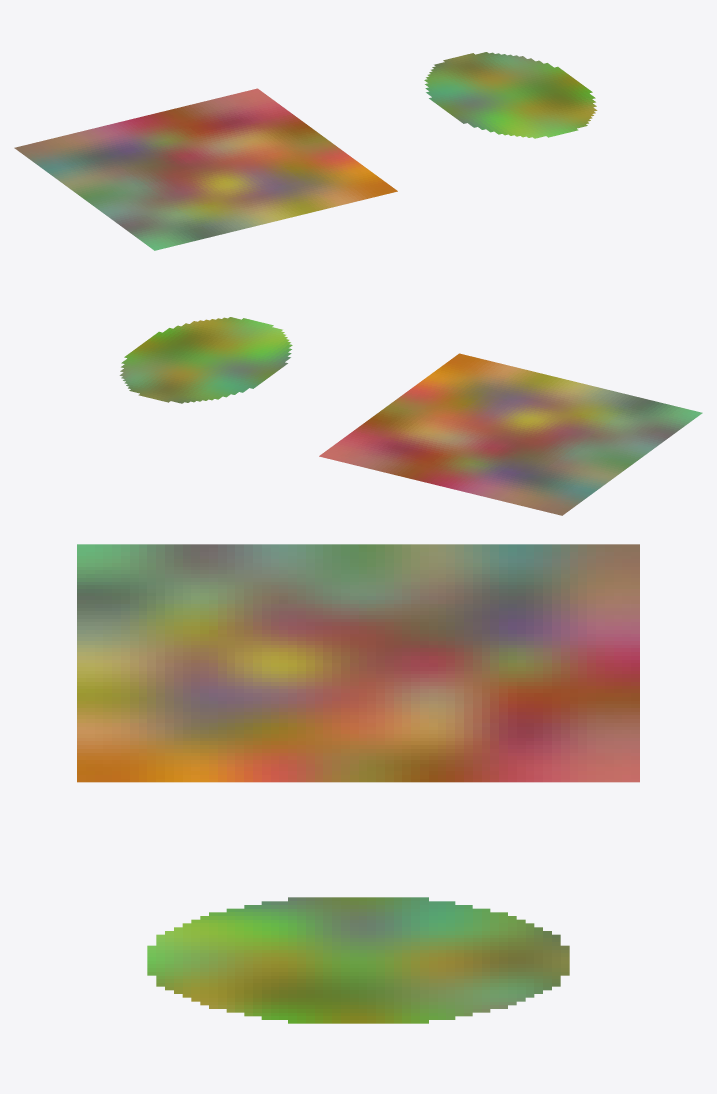
File: fox.glb
3 views of the same model, one above another, from view 1: azimuth 30°, elevation 25°; view 2: azimuth 150°, elevation 25°; view 3: azimuth 270°, elevation 25° (orthographic). The views are drawn at different scales.
Parts seen in each view (by area): view 1: Fixture_wolf_base, Fixture_fox_fur_cards; view 2: Fixture_wolf_base, Fixture_fox_fur_cards; view 3: Fixture_wolf_base, Fixture_fox_fur_cards.
Boxes of the visible parts, x1,y1,x2,y2 form: Fixture_wolf_base: (14,88,397,250); Fixture_fox_fur_cards: (424,52,597,138); Fixture_wolf_base: (319,353,702,515); Fixture_fox_fur_cards: (119,317,292,403); Fixture_wolf_base: (77,544,639,782); Fixture_fox_fur_cards: (147,897,569,1023).
Bounding box in the file's own units: 4.5 × 0 × 2.
Materials: 2 (2 with a texture image).
